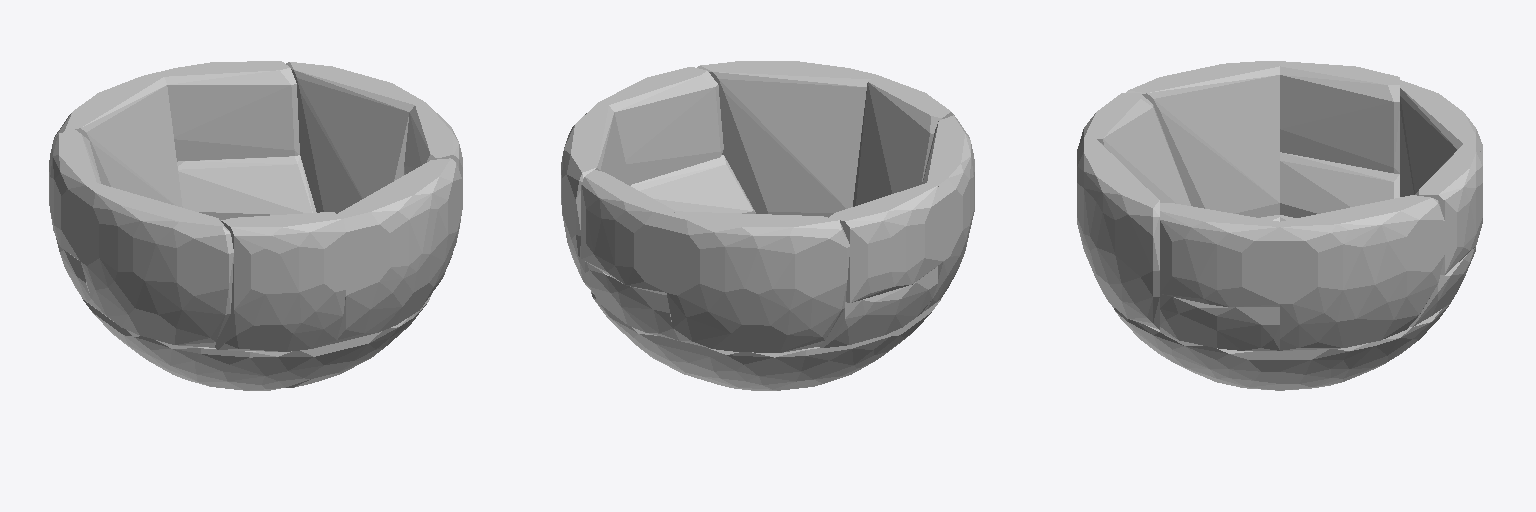
Rendered from bowl_vhacd.obj.
3 renders of one model, left to right at view 1: azimuth 30°, elevation 25°; view 2: azimuth 150°, elevation 25°; view 3: azimuth 270°, elevation 25°, orthographic.
Visible parts, largest first — view 1: convex_6, convex_7, convex_8, convex_5, convex_12, convex_4, convex_11, convex_2, convex_10, convex_14, convex_3, convex_9; view 2: convex_4, convex_8, convex_14, convex_10, convex_12, convex_7, convex_0, convex_6, convex_5, convex_13, convex_9, convex_11 (+1 smaller); view 3: convex_5, convex_6, convex_10, convex_8, convex_14, convex_7, convex_4, convex_9, convex_13, convex_12, convex_1, convex_3 (+1 smaller).
Boxes of the visible parts, x1=… form: convex_6: x1=80, y1=183, x2=233, y2=347; convex_7: x1=215, y1=212, x2=345, y2=351; convex_8: x1=334, y1=158, x2=461, y2=343; convex_5: x1=286, y1=62, x2=425, y2=213; convex_12: x1=158, y1=61, x2=299, y2=161; convex_4: x1=50, y1=72, x2=182, y2=207; convex_11: x1=177, y1=155, x2=316, y2=220; convex_2: x1=108, y1=318, x2=330, y2=390; convex_10: x1=49, y1=130, x2=100, y2=260; convex_14: x1=404, y1=103, x2=462, y2=233; convex_3: x1=286, y1=294, x2=431, y2=387; convex_9: x1=56, y1=238, x2=98, y2=310; convex_4: x1=667, y1=211, x2=849, y2=352; convex_8: x1=697, y1=61, x2=875, y2=217; convex_14: x1=598, y1=67, x2=723, y2=184; convex_10: x1=829, y1=183, x2=943, y2=302; convex_12: x1=581, y1=170, x2=675, y2=294; convex_7: x1=853, y1=75, x2=954, y2=206; convex_0: x1=682, y1=318, x2=915, y2=390; convex_6: x1=922, y1=115, x2=974, y2=312; convex_5: x1=561, y1=103, x2=630, y2=293; convex_13: x1=631, y1=155, x2=755, y2=213; convex_9: x1=818, y1=266, x2=937, y2=347; convex_11: x1=585, y1=262, x2=678, y2=340; convex_5: x1=1280, y1=195, x2=1444, y2=350; convex_6: x1=1126, y1=61, x2=1279, y2=217; convex_10: x1=1280, y1=61, x2=1399, y2=173; convex_8: x1=1077, y1=139, x2=1159, y2=329; convex_14: x1=1160, y1=203, x2=1279, y2=306; convex_7: x1=1077, y1=93, x2=1190, y2=205; convex_4: x1=1400, y1=80, x2=1482, y2=196; convex_9: x1=1280, y1=152, x2=1399, y2=217; convex_13: x1=1160, y1=294, x2=1279, y2=350; convex_12: x1=1415, y1=144, x2=1482, y2=274; convex_1: x1=1280, y1=303, x2=1450, y2=390; convex_3: x1=1112, y1=306, x2=1279, y2=390.
Size of the model in its own units: 0.2006 by 0.1222 by 0.2006.